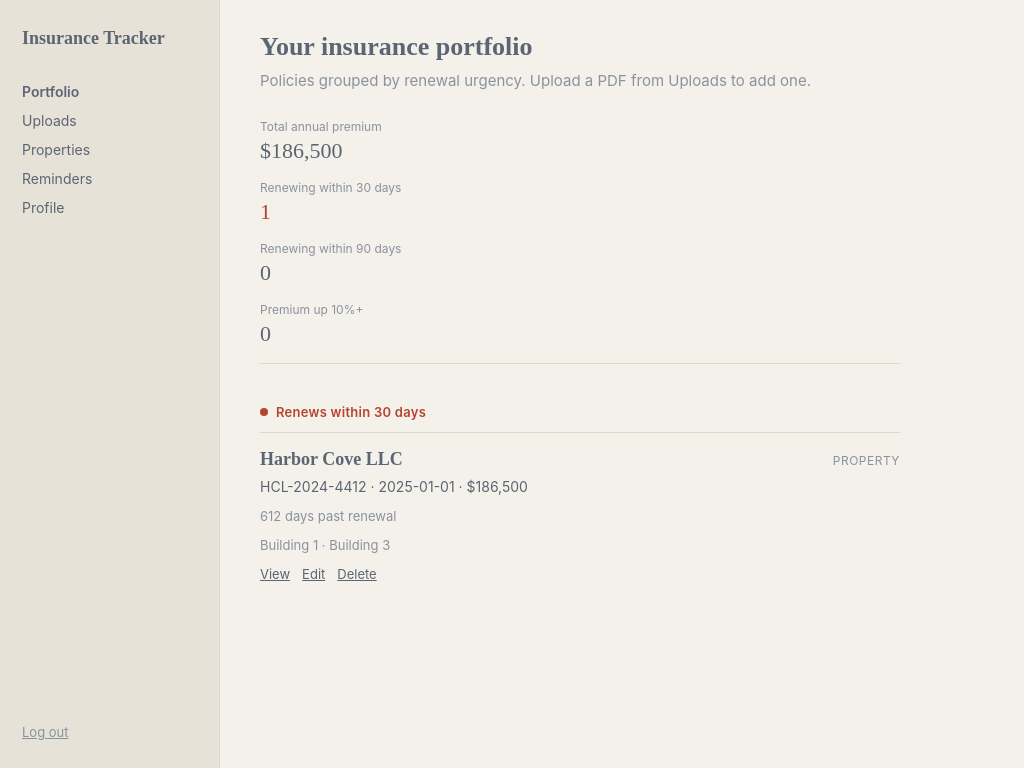
Test: portfolio management › attaches a property on policy edit and shows the label on Home
Expected: the element named "saved policies" shows "Harbor Cove LLC", x1=260 y1=449 x2=403 y2=469
Expected: the element named "saved policies" shows "Building 1", x1=260 y1=537 x2=390 y2=553
Click the link with aria-label "edit harbor cove llc": click(314, 574) x1=302 y1=566 x2=325 y2=582
(page scrolled)
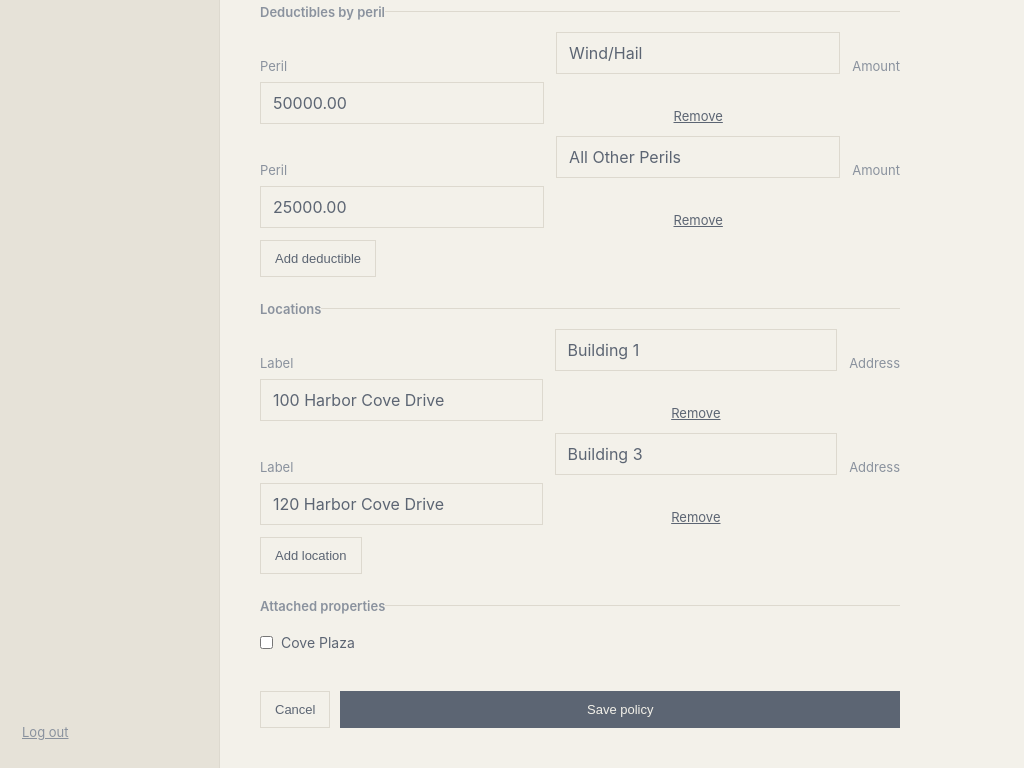
Click the checkbox labelled "Cove Plaza": click(266, 642) x1=260 y1=636 x2=273 y2=649
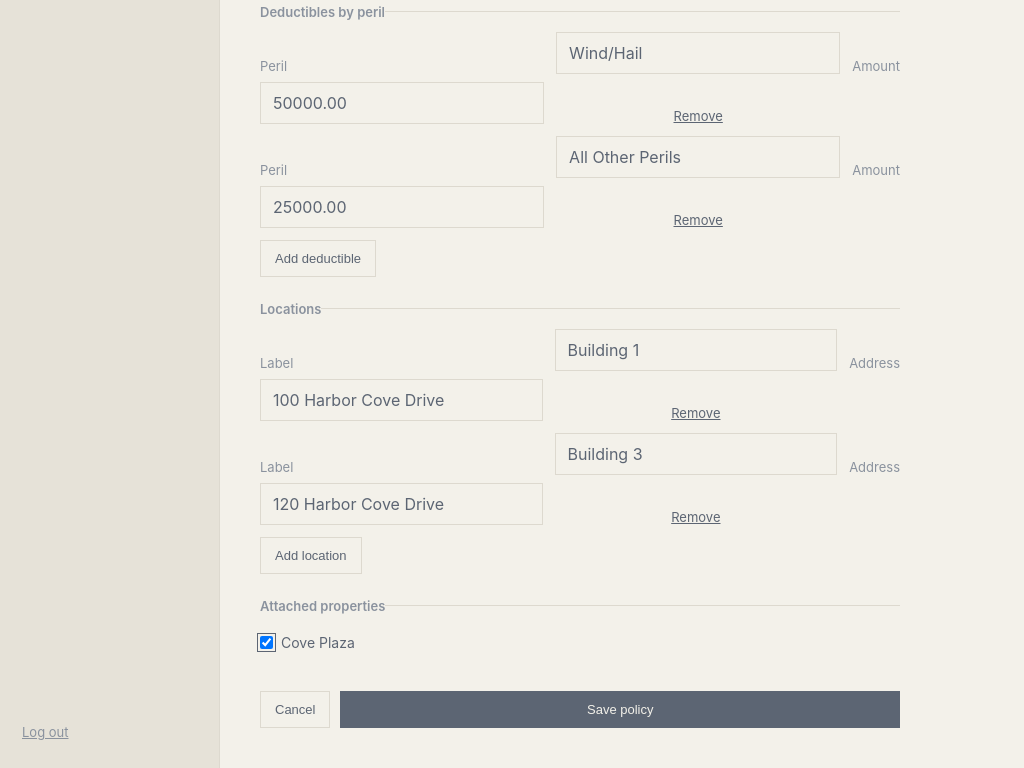
Click the button "Save policy": click(620, 709) x1=340 y1=691 x2=900 y2=728
(page scrolled)
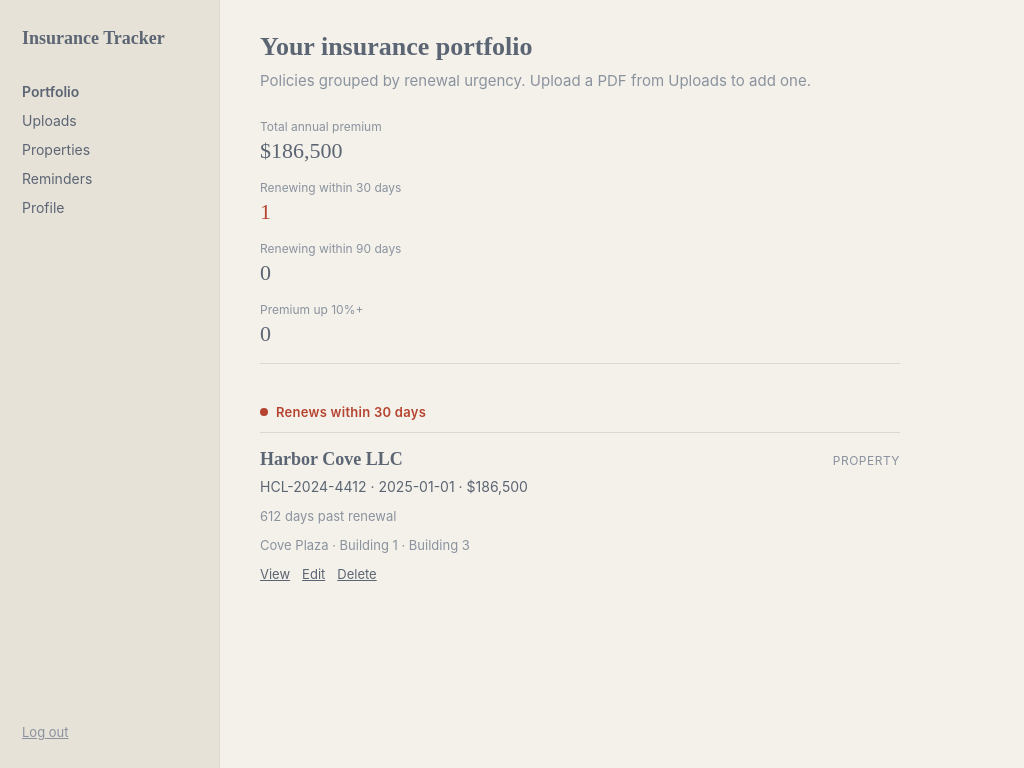
Result: the element named "saved policies" shows "Cove Plaza" at x1=260 y1=537 x2=470 y2=553
Result: the element named "saved policies" shows "Building 1" at x1=260 y1=537 x2=470 y2=553
